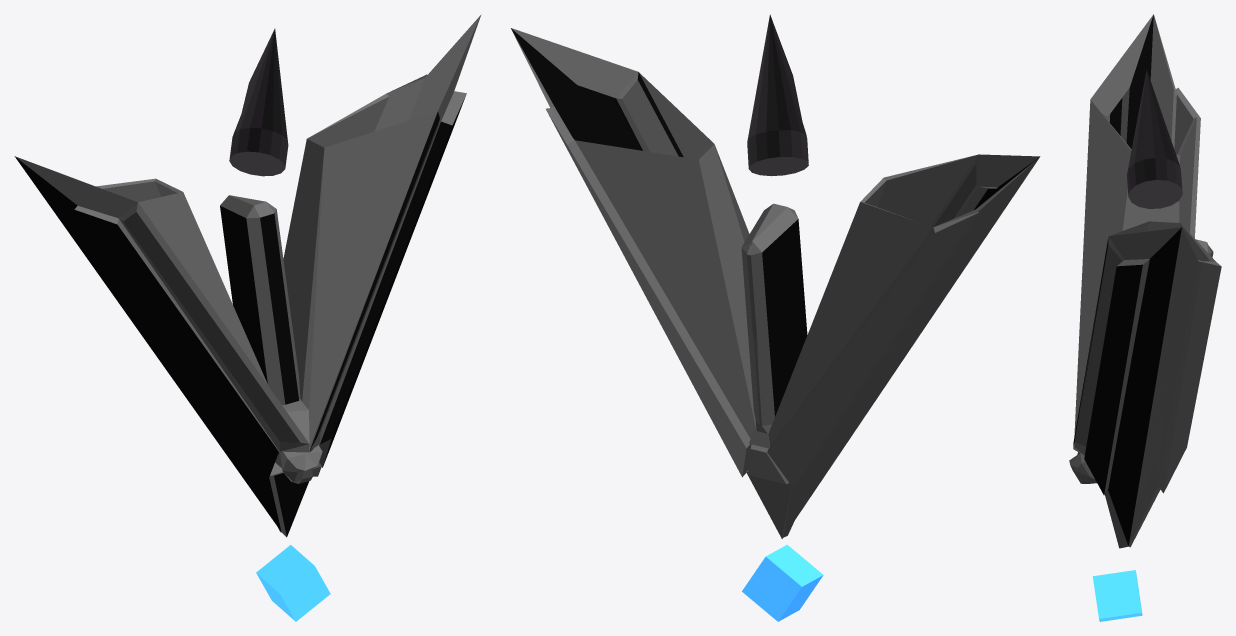
Rendered from Player.fbx.
3 renders of one model, left to right at view 1: azimuth 30°, elevation 25°; view 2: azimuth 150°, elevation 25°; view 3: azimuth 270°, elevation 25°, orthographic. The views are drawn at different scales.
Visible parts, largest first — view 1: Cone, Cone.002, Cube; view 2: Cone, Cone.002, Cube; view 3: Cone, Cone.002, Cube.
Boxes of the visible parts, x1,y1,x2,y2 form: Cone: [14, 14, 481, 537]; Cone.002: [229, 28, 288, 176]; Cube: [256, 545, 330, 621]; Cone: [511, 28, 1040, 538]; Cone.002: [747, 14, 808, 176]; Cube: [742, 544, 823, 621]; Cone: [1069, 14, 1221, 548]; Cone.002: [1127, 70, 1182, 208]; Cube: [1092, 570, 1142, 621].
Bounding box in the file's own units: 268 × 306 × 76.22.
